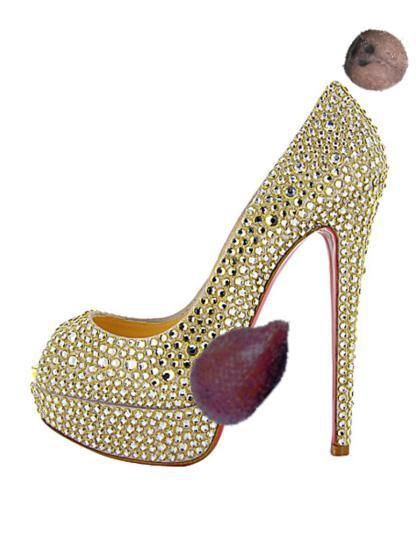Cocos: (341, 26, 410, 95)
Salak: (178, 301, 307, 430)
